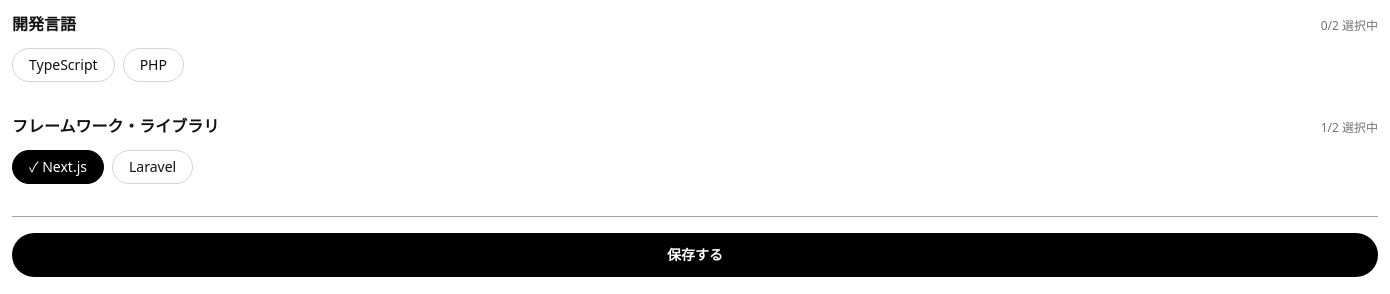
Test case: cannot save with no tag selected
This screenshot has width=1390, height=294.
Click the button "✓ Next.js" at (58, 167), box [12,150,104,184]
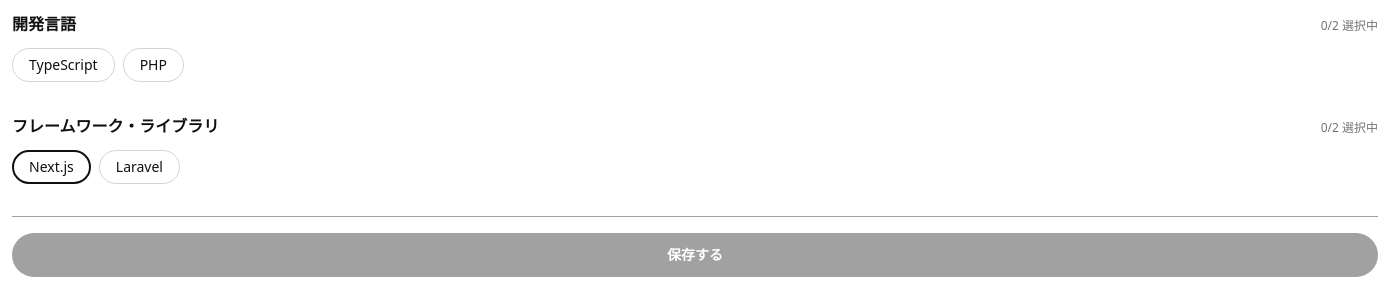
Result: the button "保存する" is disabled at [12,233,1378,277]
